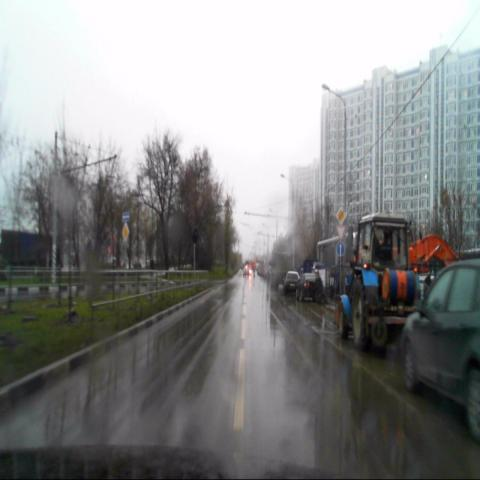2_1: (121, 222, 129, 242)
2_2: (336, 206, 346, 224)
2_4: (336, 225, 346, 241)
4_1_1: (336, 241, 345, 256)
